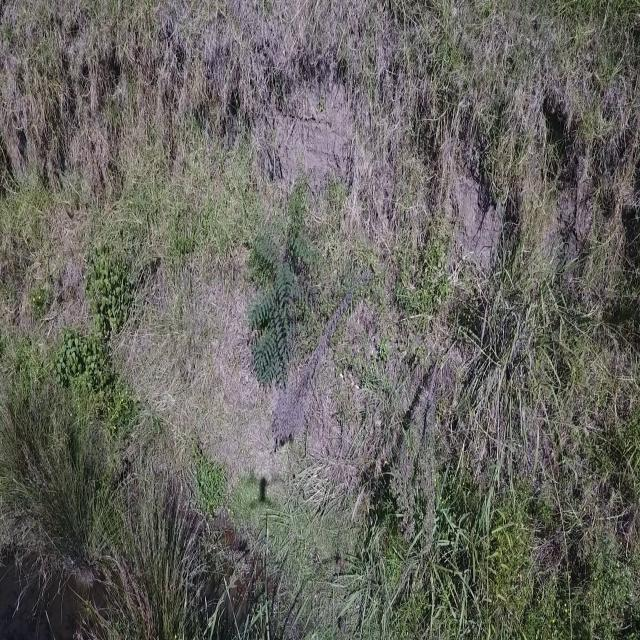Mysore-Thorn-Weed: (248, 224, 312, 392)
